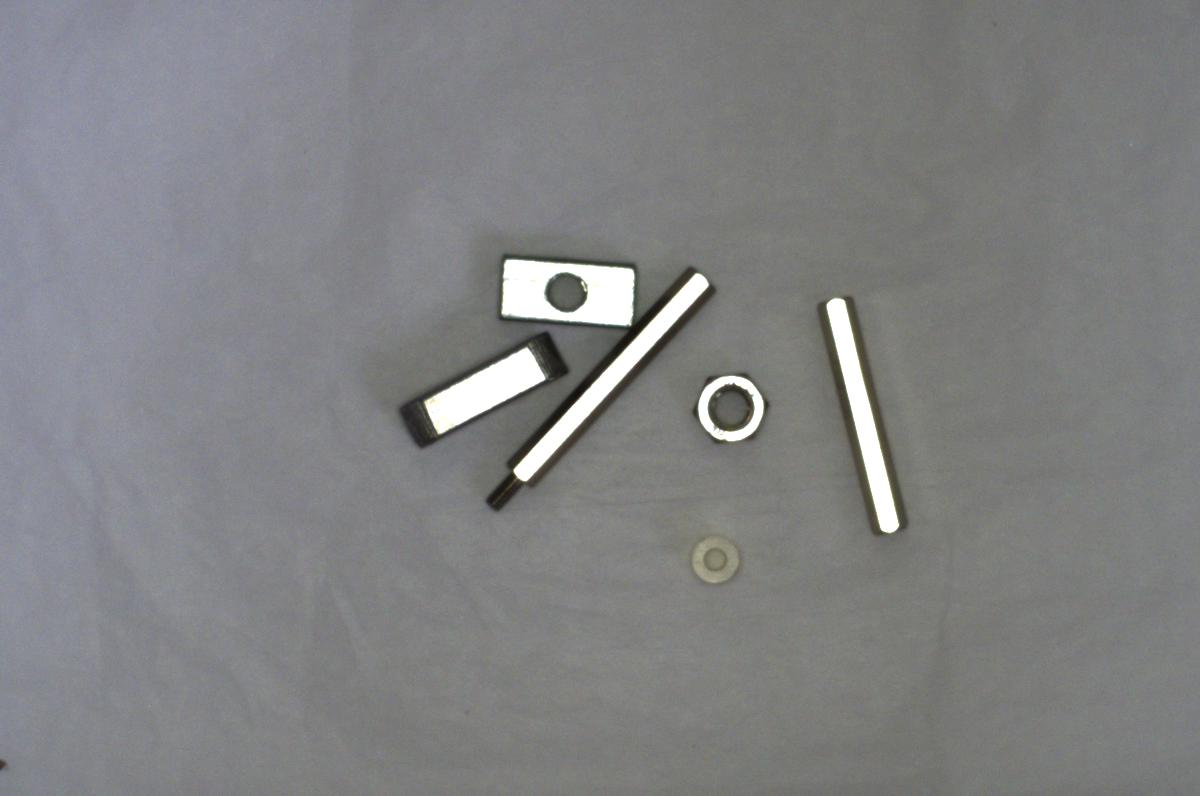Double hexagonal column: (815, 285, 910, 542)
Hexagon nut: (690, 360, 772, 445)
Hexagonal steel column: (481, 263, 712, 509)
Keybar: (391, 330, 575, 454)
Plastic cushion pillar: (681, 529, 746, 589)
Rectangular nut: (490, 248, 639, 336)
